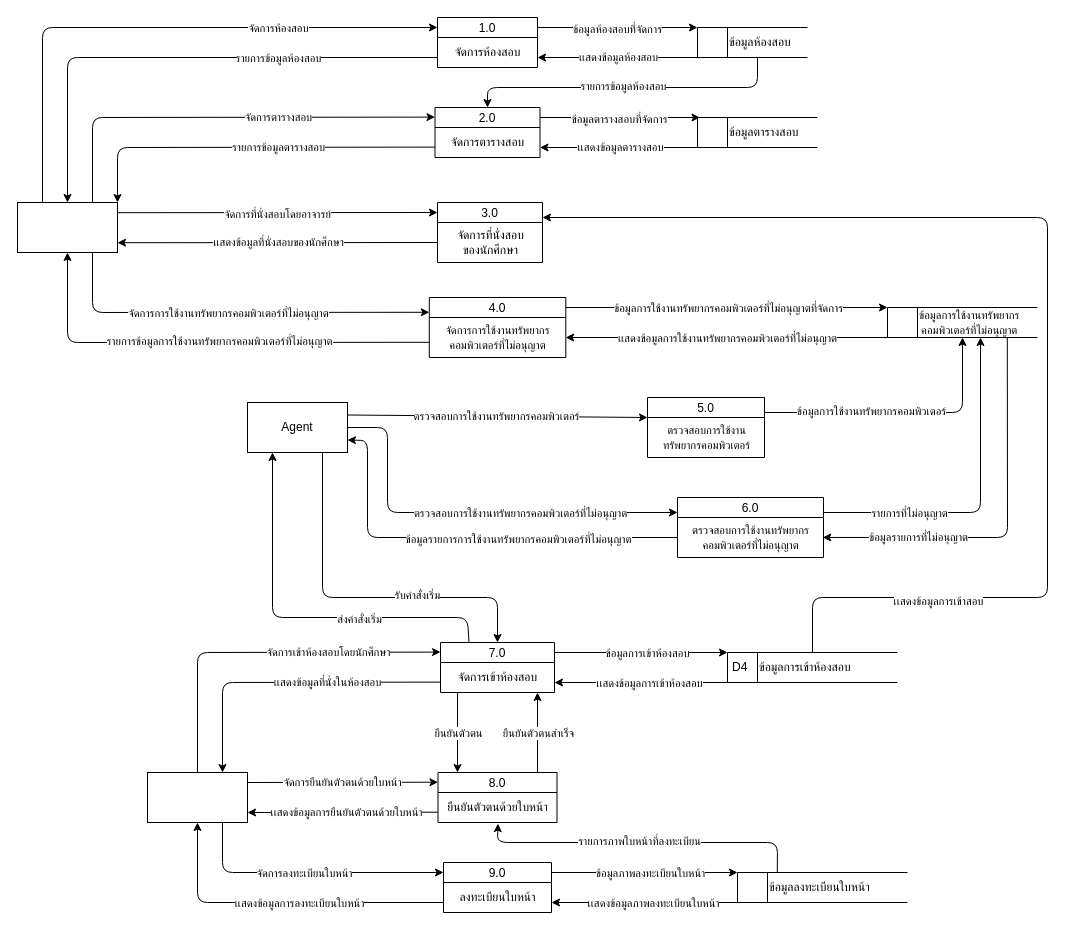
This 1075x930 diagram has some shape labels left out. Each missing label, with the box of its shape:
D1: (696, 26, 808, 58)
D2: (696, 116, 818, 148)
D3: (886, 306, 1038, 338)
D5: (736, 872, 908, 902)
นักศึกษา: (146, 772, 248, 822)
อาจารย์: (16, 202, 118, 252)
